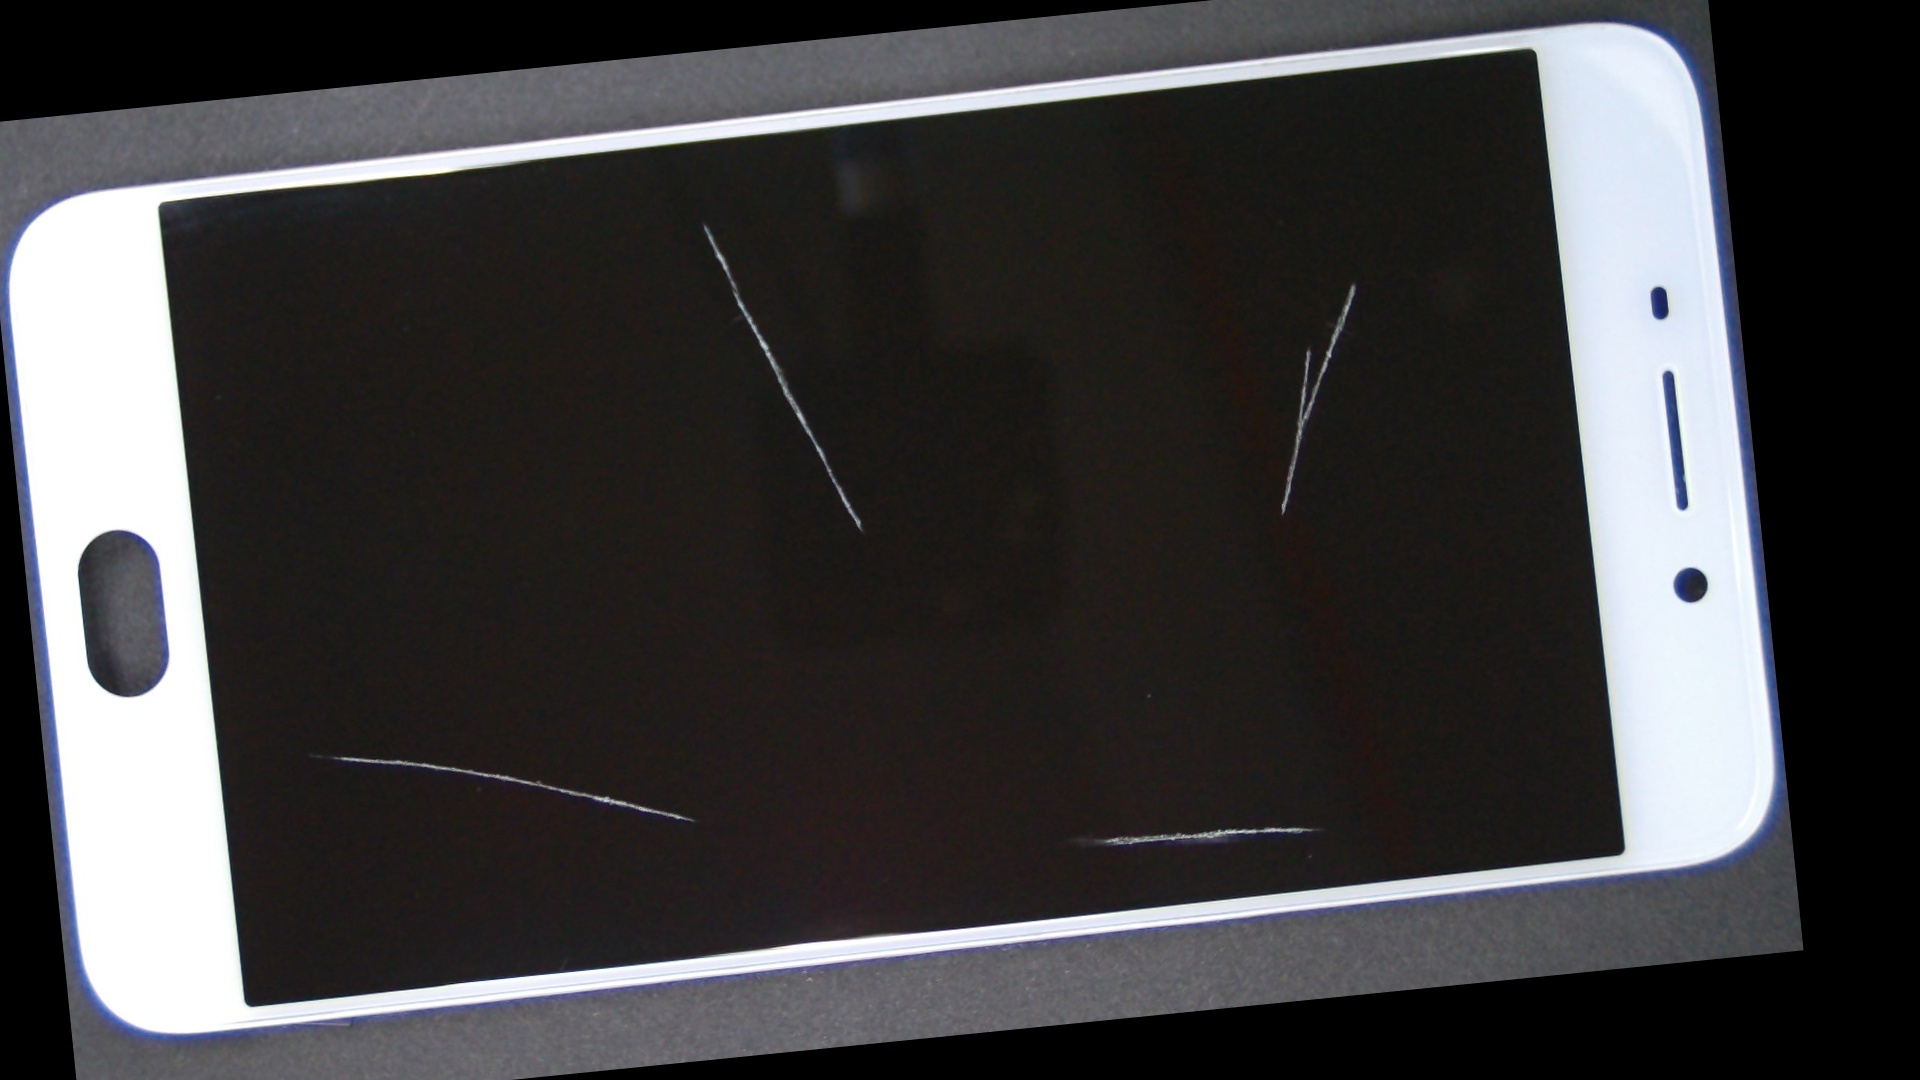oil: (534, 377, 1615, 1072), (666, 98, 1747, 498), (145, 411, 475, 1080), (342, 103, 1064, 345)
